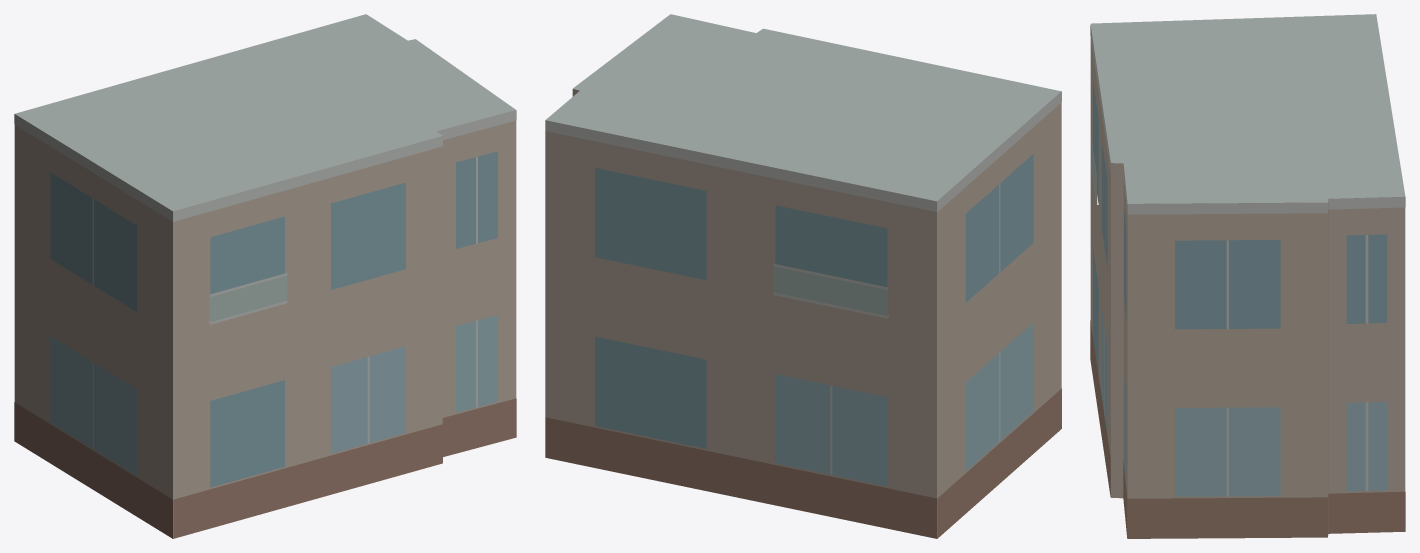
Rendered from survey-upis-32462985.glb.
3 views of the same model, side by side, from view 1: azimuth 30°, elevation 25°; view 2: azimuth 150°, elevation 25°; view 3: azimuth 270°, elevation 25° (orthographic). The views are drawn at different scales.
Parts seen in each view (by area): view 1: survey-upis-32462985.tmp; view 2: survey-upis-32462985.tmp; view 3: survey-upis-32462985.tmp.
Part boxes in pixels (box(x1,y1,x2,y2)): survey-upis-32462985.tmp: box(14, 14, 516, 538); survey-upis-32462985.tmp: box(545, 14, 1061, 538); survey-upis-32462985.tmp: box(1090, 14, 1405, 538).
Bounding box in the file's own units: 9.25 × 7.6 × 6.49.
